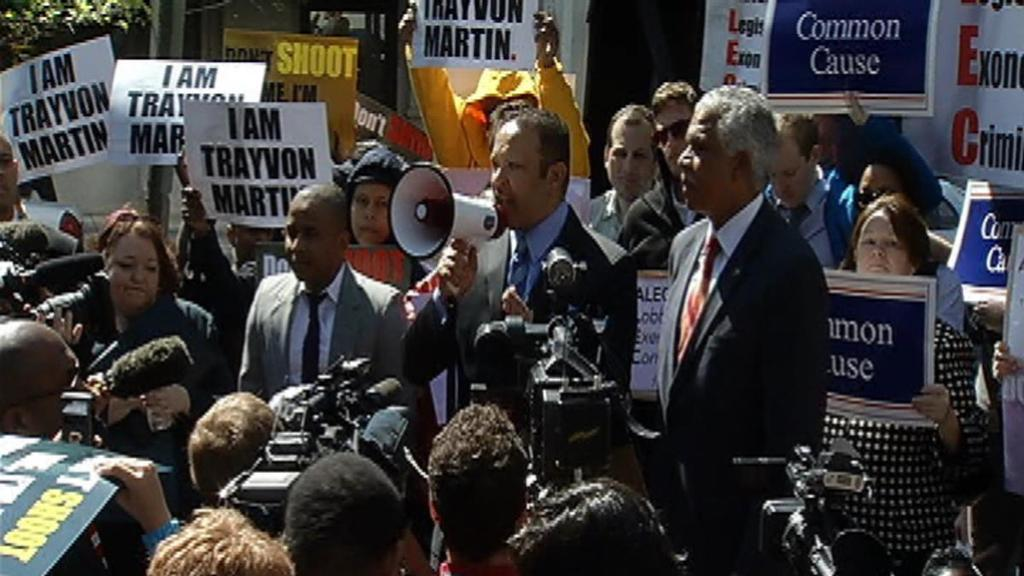face: (678, 116, 734, 211), (490, 146, 549, 225), (35, 358, 79, 447), (287, 209, 340, 279), (858, 218, 913, 278), (109, 246, 159, 309), (609, 131, 654, 193), (766, 146, 811, 203), (352, 185, 392, 245), (657, 113, 692, 176), (860, 170, 898, 209), (235, 217, 268, 260), (1, 142, 14, 209)
